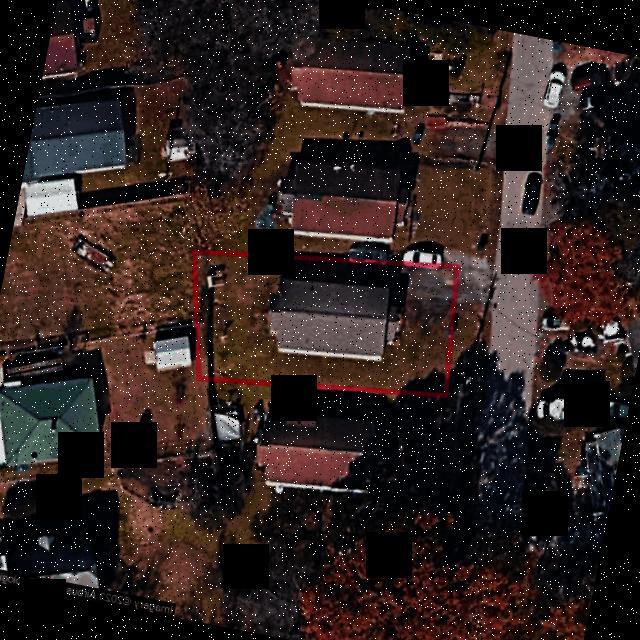Driveway: (296, 261, 458, 303)
Extra Driveway: (457, 265, 493, 308)
Extra Lawn: (450, 303, 492, 371)
House: (265, 276, 402, 362)
